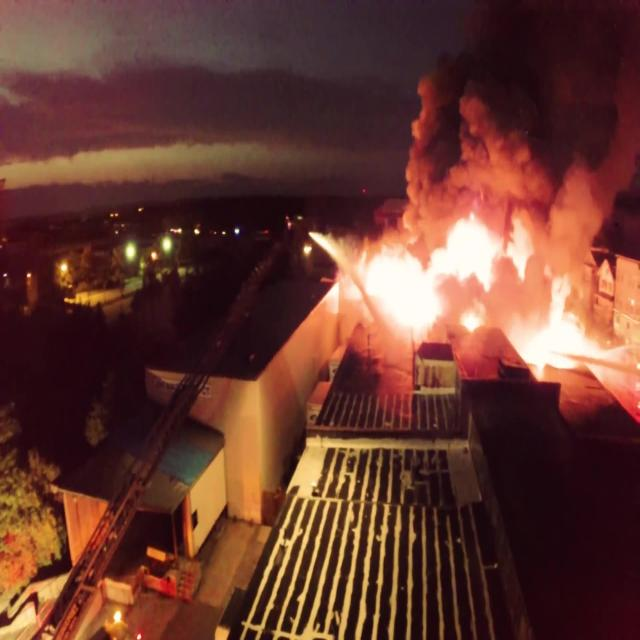Fire: (351, 218, 607, 329)
Smoke: (404, 0, 640, 254)
